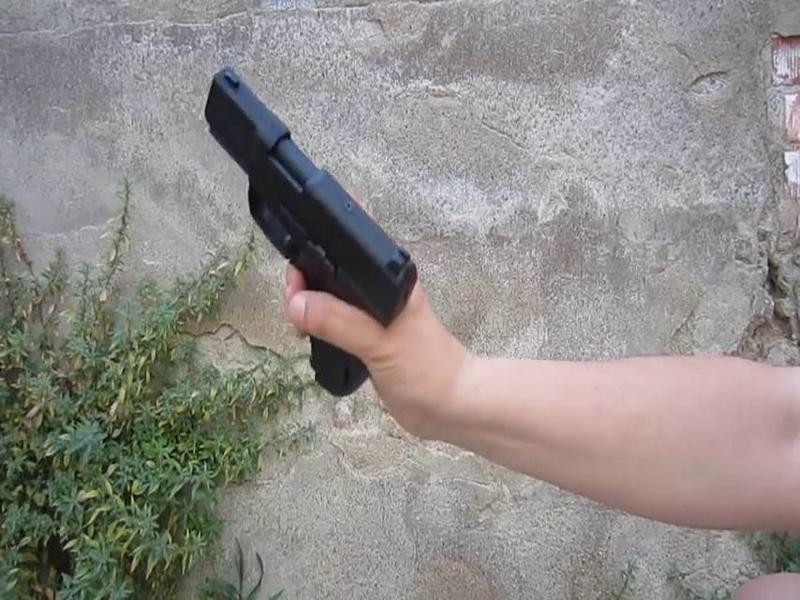Pistola: (196, 44, 432, 429)
